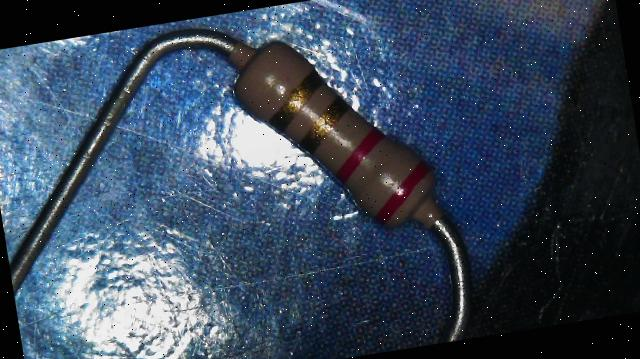gold: (293, 94, 357, 153), (270, 72, 322, 118)
red: (368, 159, 437, 222), (330, 126, 391, 182)
resistor: (209, 19, 451, 249)
